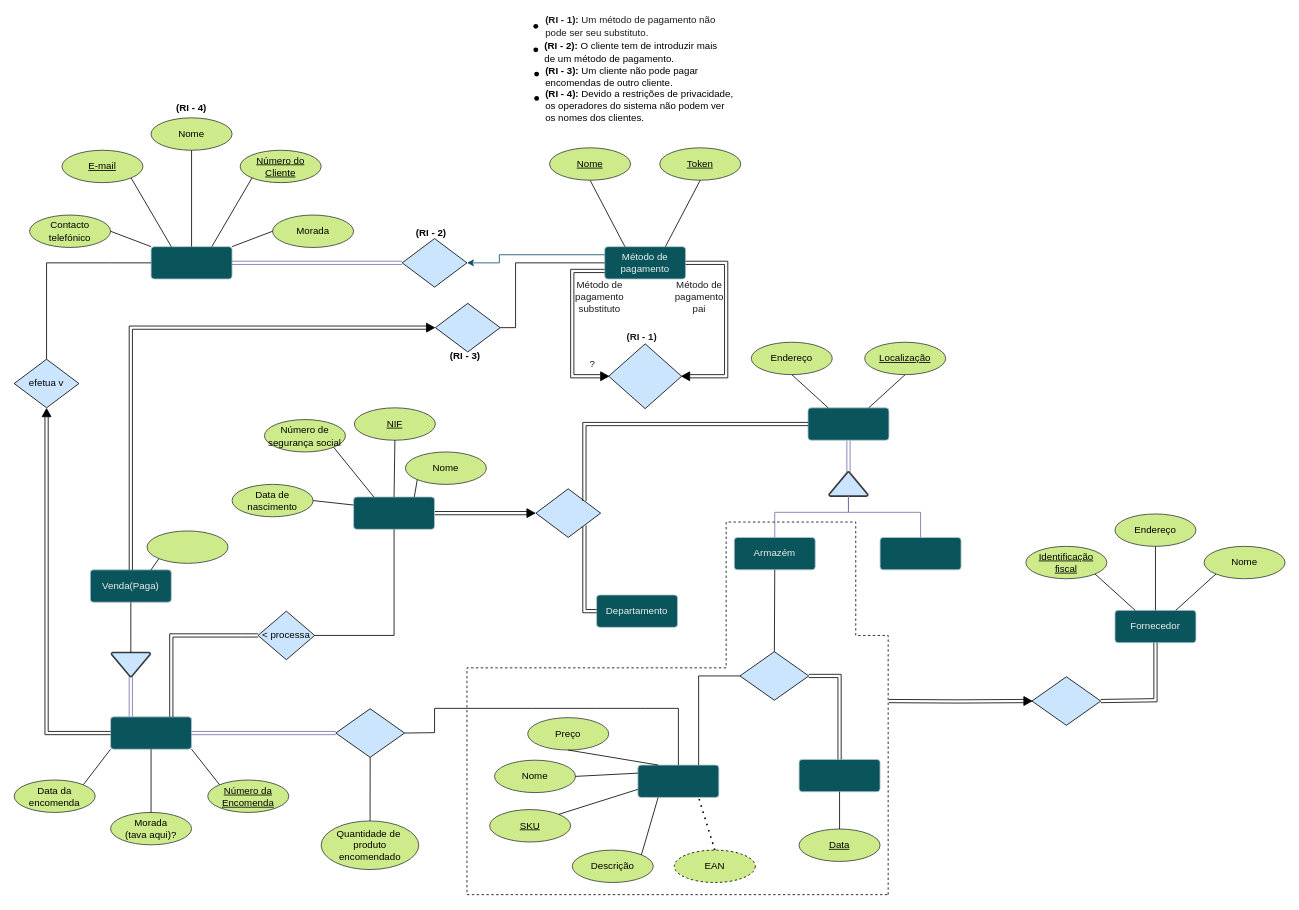
Some shapes in this 1299 by 910 pixel diagram are drawn without their labels. The shapes that lost their labels are listed below. From the top down, each one's centre as x and y in pixels, then its label:
point 191,262: Cliente
point 434,262: tem >
point 467,327: registada com >
point 645,376: é substituto de >
point 848,423: Local de trabalho
point 394,512: Empregado
point 568,512: trabalha em >
point 187,546: Data de pagamento
point 920,553: Escritório
point 774,675: distribuição
point 1066,700: < tem
point 151,732: Encomenda
point 370,732: constituída por >
point 678,780: Produto
point 839,775: Contrato (ent. fraca?)
